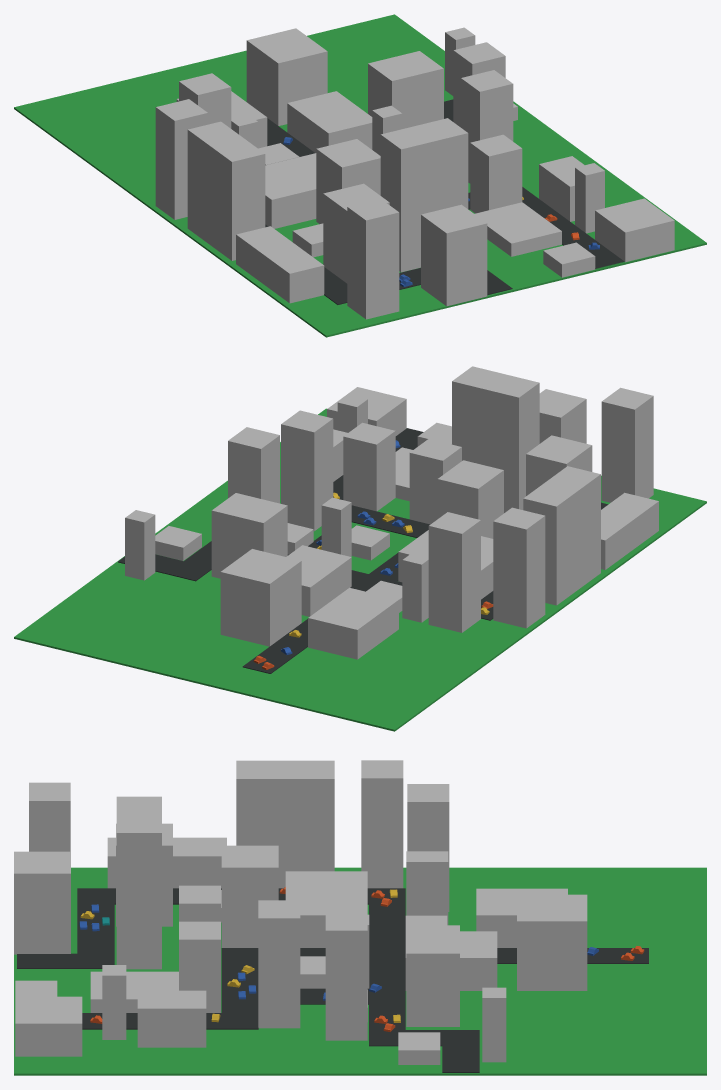
Rendered from level1.fbx.
The picture shows the model from 3 angles, top to bottom: view 1: azimuth 30°, elevation 25°; view 2: azimuth 150°, elevation 25°; view 3: azimuth 270°, elevation 25°; orthographic projection. The views are drawn at different scales.
Visible parts, largest first — view 1: 1 base, building.003, building.023, building.025, building.029, building.019, building.012, building.028, building.024, building.005, 2 road, building.006 (+17 smaller); view 2: 1 base, building.003, building.023, building.019, building.021, building.024, building.029, 2 road, building.016, building.013, building.012, building.001 (+17 smaller); view 3: 1 base, 2 road, building.023, building.003, building.019, building.025, building.017, building.016, building.012, building.024, building.004, building.014 (+17 smaller).
Part boxes in pixels (x1,y1,x2,y2): 1 base: [14, 14, 706, 337]; building.003: [380, 118, 468, 272]; building.023: [187, 121, 265, 260]; building.025: [421, 204, 487, 306]; building.029: [347, 198, 399, 319]; building.019: [246, 28, 327, 125]; building.012: [368, 51, 443, 128]; building.028: [236, 226, 324, 303]; building.024: [155, 99, 207, 219]; building.005: [595, 198, 674, 262]; 2 road: [265, 99, 624, 304]; building.006: [287, 91, 372, 152]; 1 base: [14, 408, 706, 731]; building.003: [452, 366, 539, 512]; building.023: [523, 466, 600, 605]; building.019: [220, 549, 301, 646]; building.021: [428, 512, 480, 632]; building.024: [493, 507, 545, 628]; building.029: [601, 387, 653, 502]; 2 road: [118, 428, 608, 673]; building.016: [281, 410, 333, 531]; building.013: [308, 587, 398, 659]; building.012: [211, 493, 287, 578]; building.001: [343, 422, 395, 511]; 1 base: [14, 867, 706, 1075]; 2 road: [17, 888, 648, 1072]; building.023: [236, 760, 334, 888]; building.003: [116, 796, 161, 969]; building.019: [517, 894, 587, 990]; building.025: [14, 851, 70, 954]; building.017: [325, 912, 367, 1040]; building.016: [258, 900, 300, 1028]; building.012: [406, 925, 459, 1026]; building.024: [361, 760, 403, 888]; building.004: [221, 845, 278, 947]; building.014: [285, 871, 367, 947].
Size of the model in its own units: 443 by 629 by 139.
